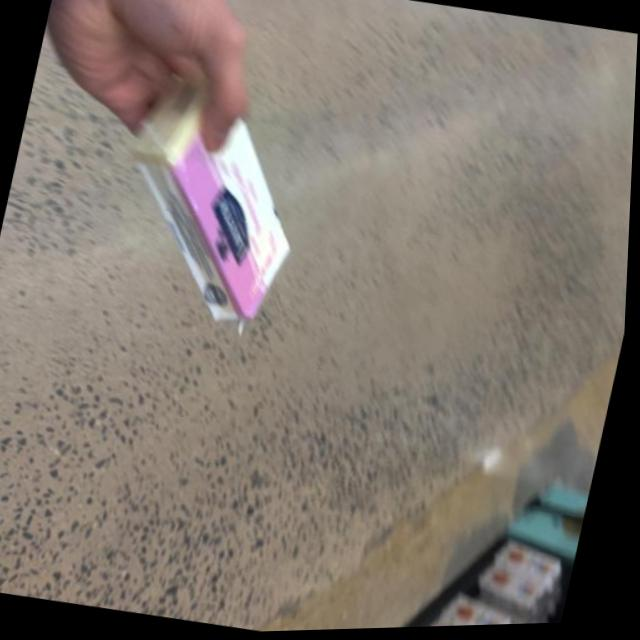Cheese: (86, 47, 344, 358)
